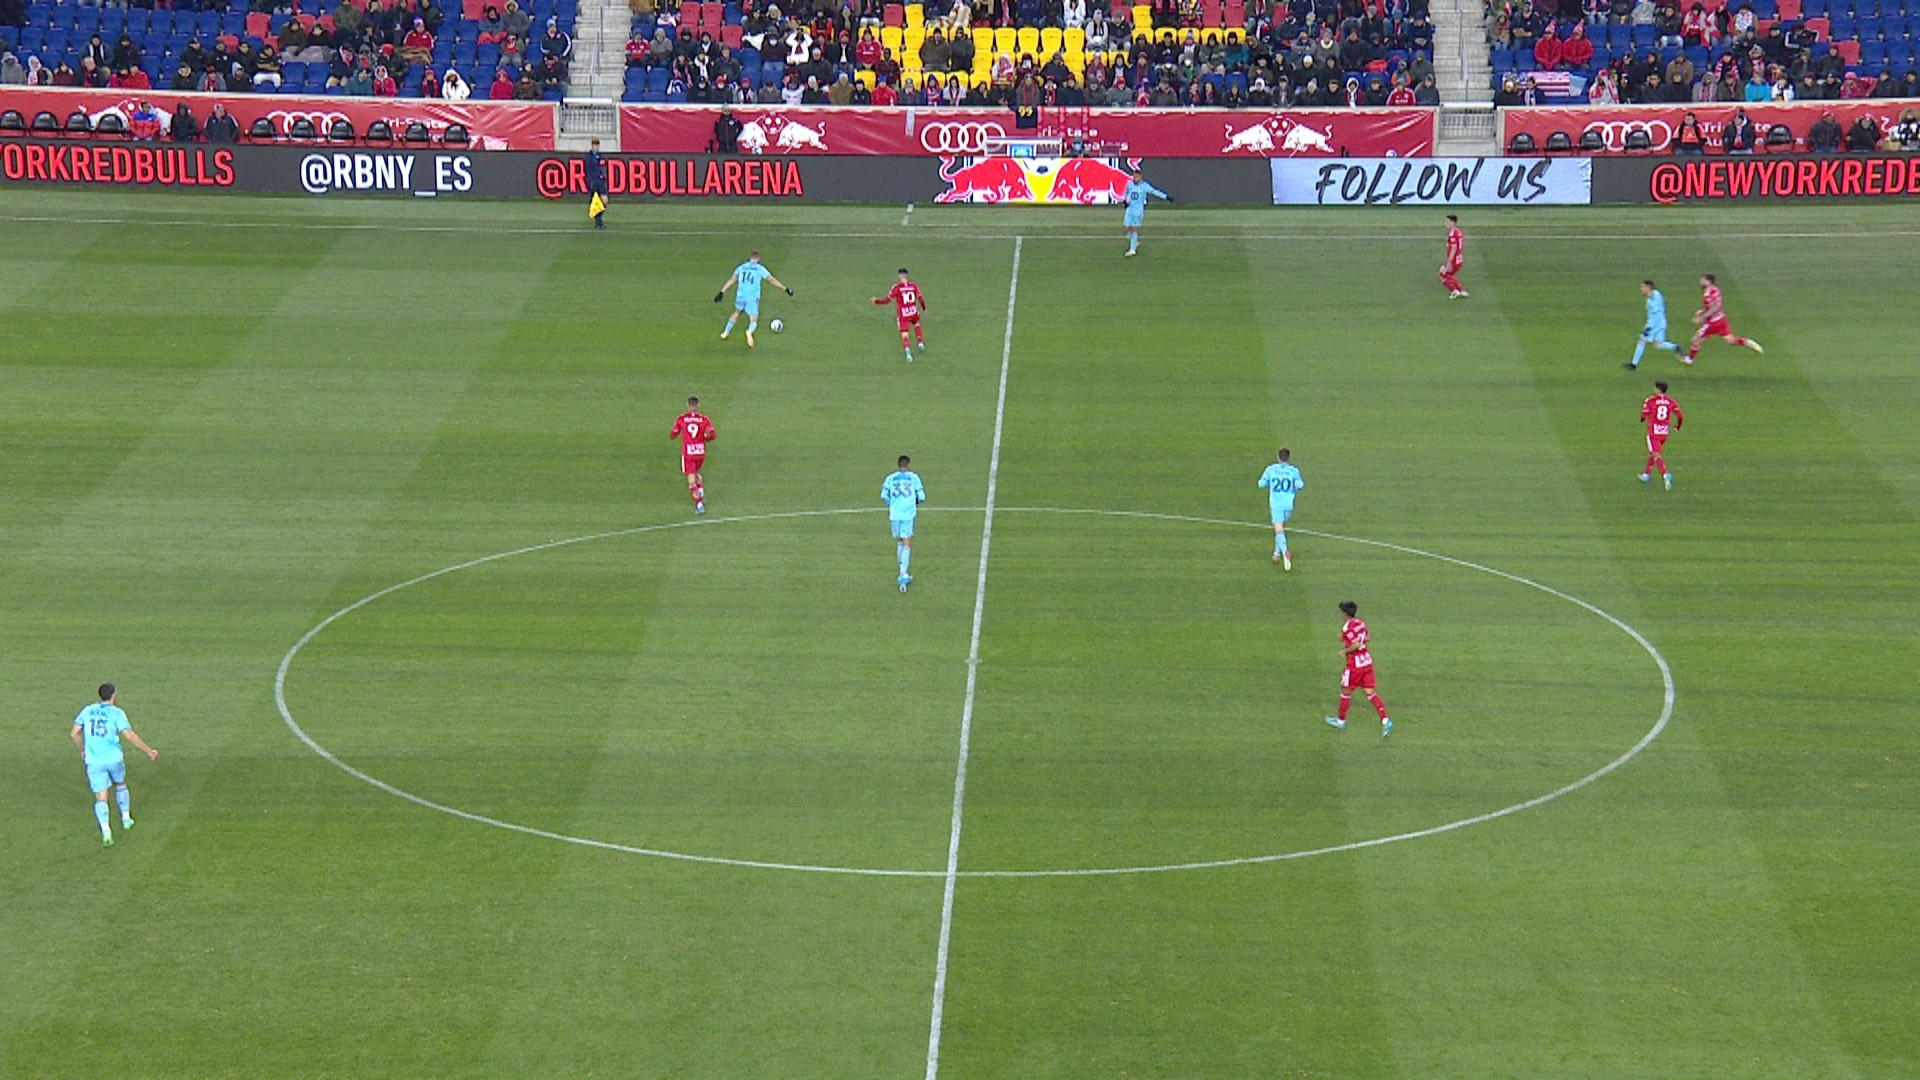football: (770, 318, 785, 334)
